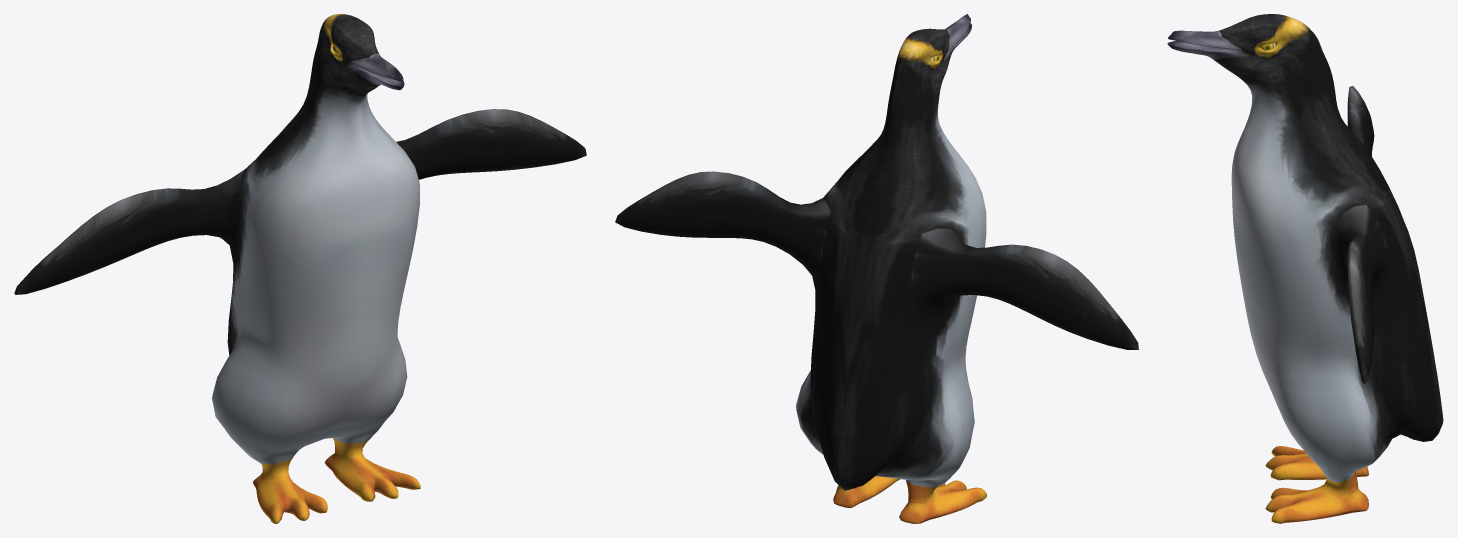
Rendered from penguin.obj.
The picture shows the model from 3 angles, left to right: view 1: azimuth 30°, elevation 25°; view 2: azimuth 150°, elevation 25°; view 3: azimuth 270°, elevation 25°; orthographic projection. The views are drawn at different scales.
Parts seen in each view (by area): view 1: Default; view 2: Default; view 3: Default.
Part boxes in pixels (<box>): Default: <box>14,14,586,523</box>; Default: <box>615,14,1138,523</box>; Default: <box>1167,14,1443,523</box>.
Size of the model in its own units: 2.6 by 2.14 by 1.13.
Materials: 2 (2 with a texture image).
